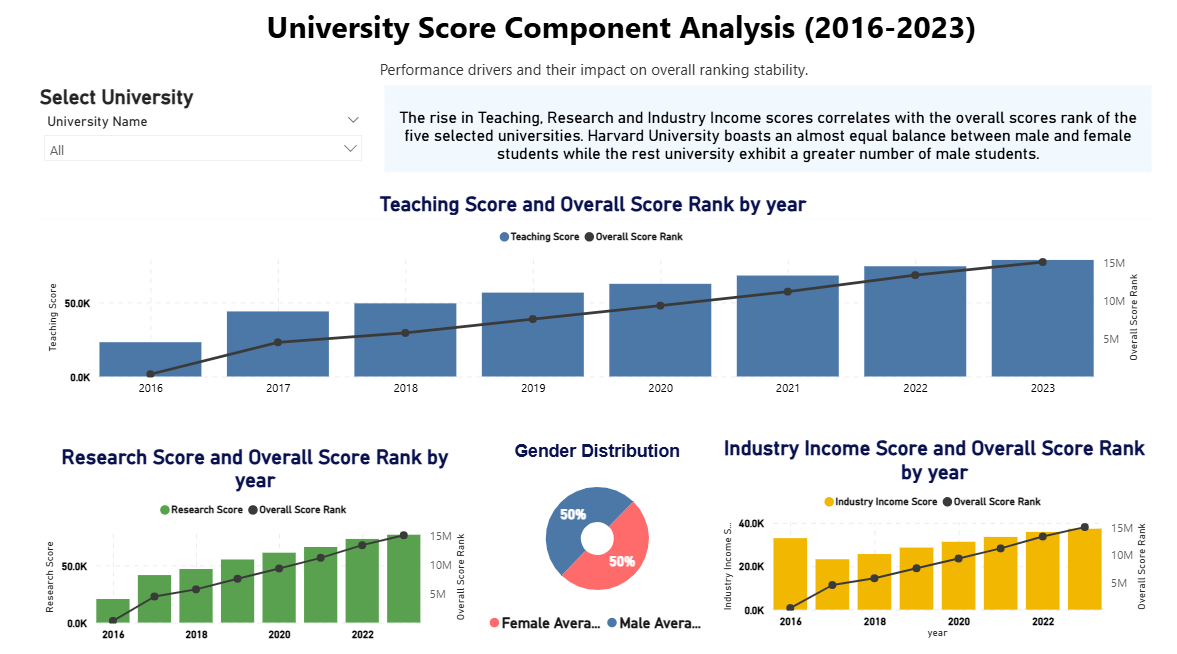

The page's visual inventory and layout, read from the dashboard file:
{"tool":"powerbi","page":{"name":"Score Analysis","canvas":[1280,720],"ordinal":3},"visuals":[{"type":"donutChart","title":"Gender Distribution","fields":{"Y":["Sum(CLEANED DATA.female_ratio)","Sum(CLEANED DATA.male_ratio)"]},"box":[515,475,256.7,218.3],"z":0},{"type":"lineStackedColumnComboChart","title":"Teaching Score and Overall Score Rank by year","fields":{"Category":["CLEANED DATA.year"],"Y":["Sum(CLEANED DATA.scores_teaching)"],"Y2":["Sum(CLEANED DATA.scores_overall_rank)"]},"box":[48.3,210,1183.3,228.3],"z":1000},{"type":"lineStackedColumnComboChart","title":"Research Score and Overall Score Rank by year","fields":{"Category":["CLEANED DATA.year"],"Y2":["Sum(CLEANED DATA.scores_overall_rank)"],"Y":["Sum(CLEANED DATA.scores_research)"]},"box":[48.3,475,466.7,218.3],"z":2000},{"type":"lineStackedColumnComboChart","title":"Industry Income Score and Overall Score Rank by year","fields":{"Category":["CLEANED DATA.year"],"Y2":["Sum(CLEANED DATA.scores_overall_rank)"],"Y":["Sum(CLEANED DATA.scores_industry_income)"]},"box":[771.7,475,460,218.3],"z":3000},{"type":"textbox","box":[418.3,103.3,813.3,91.7],"z":4000},{"type":"slicer","title":"Select University","fields":{"Values":["CLEANED DATA.name"]},"box":[48.3,103.3,356.7,91.7],"z":5000},{"type":"textbox","box":[108.3,13.3,1123.3,56.7],"z":6000},{"type":"textbox","box":[48.3,70,1190,33.3],"z":7000}]}

Visuals, with their boxes in screenshot pixels (x1, y1, x2, y2), scaled from the page's 1280x720 canvas onto the 1177x654 screenshot:
"Gender Distribution" donutChart: bbox=(474, 431, 710, 630)
"Teaching Score and Overall Score Rank by year" lineStackedColumnComboChart: bbox=(44, 191, 1132, 398)
"Research Score and Overall Score Rank by year" lineStackedColumnComboChart: bbox=(44, 431, 474, 630)
"Industry Income Score and Overall Score Rank by year" lineStackedColumnComboChart: bbox=(710, 431, 1133, 630)
textbox: bbox=(385, 94, 1132, 177)
"Select University" slicer: bbox=(44, 94, 372, 177)
textbox: bbox=(100, 12, 1132, 64)
textbox: bbox=(44, 64, 1139, 94)
